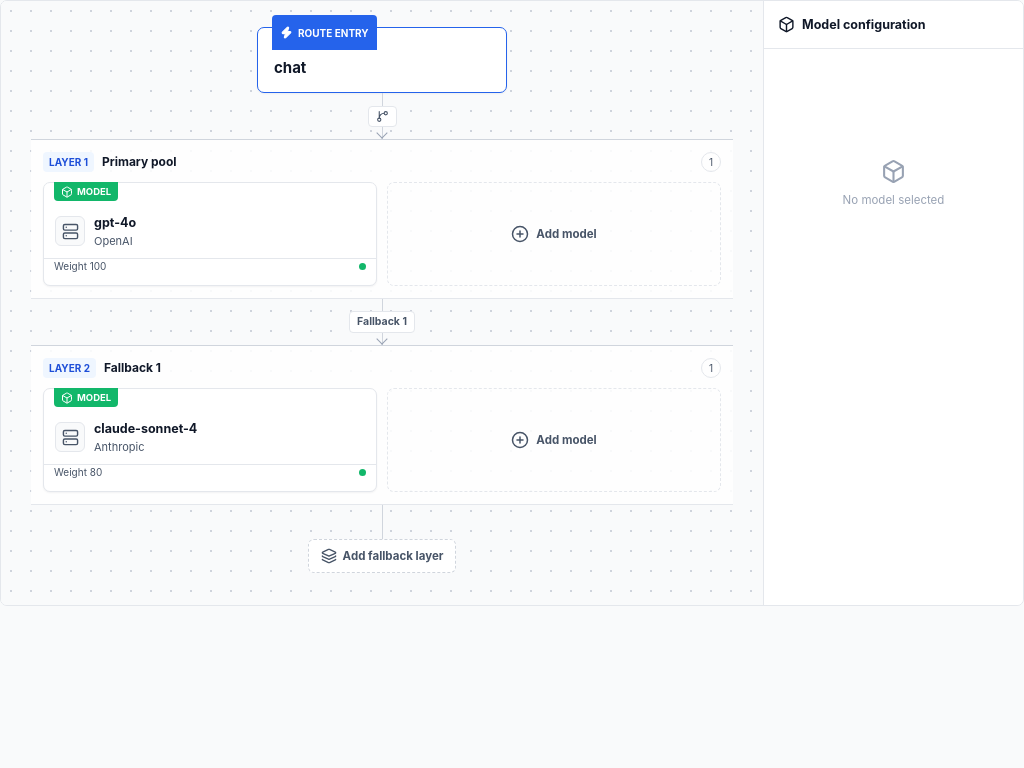
Test: ModelGroupMappingVisualizer › clears model and layer selections when the canvas background is clicked
Click the button "Model gpt-4o OpenAI Weight 100": {"x": 86, "y": 192} [43,182,377,286]
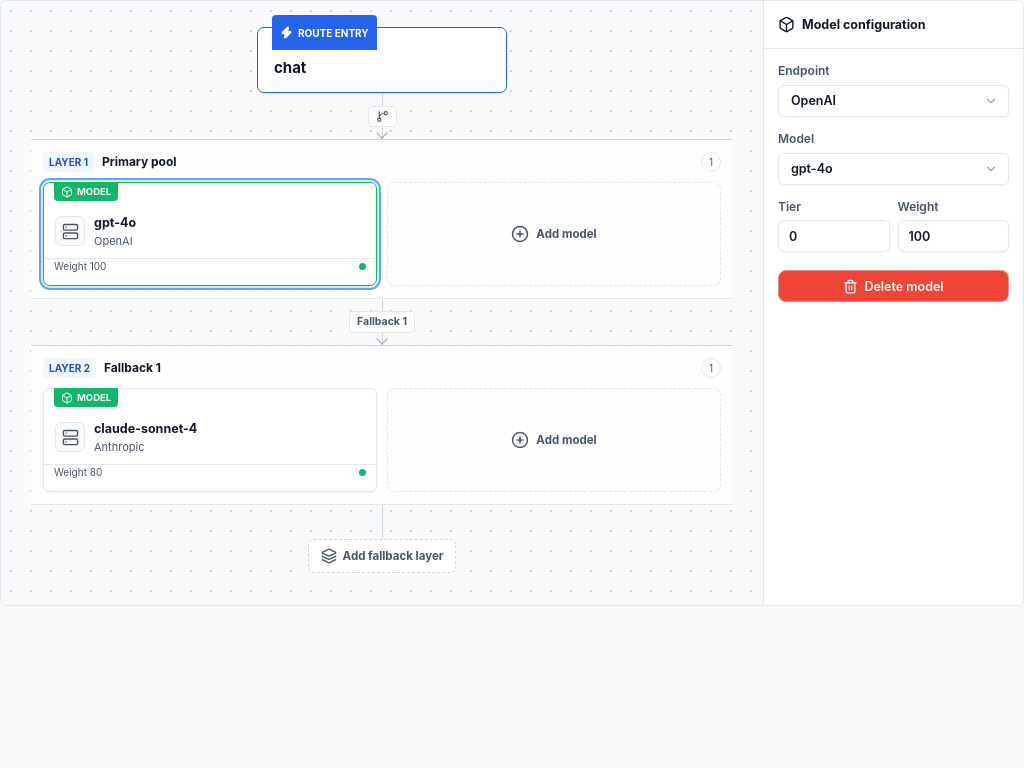
Result: the element "Model configuration" shows "OpenAI" at [778,85,1009,117]
Click the element with test id "mapping-canvas": {"x": 31, "y": 25} [1,1,763,605]
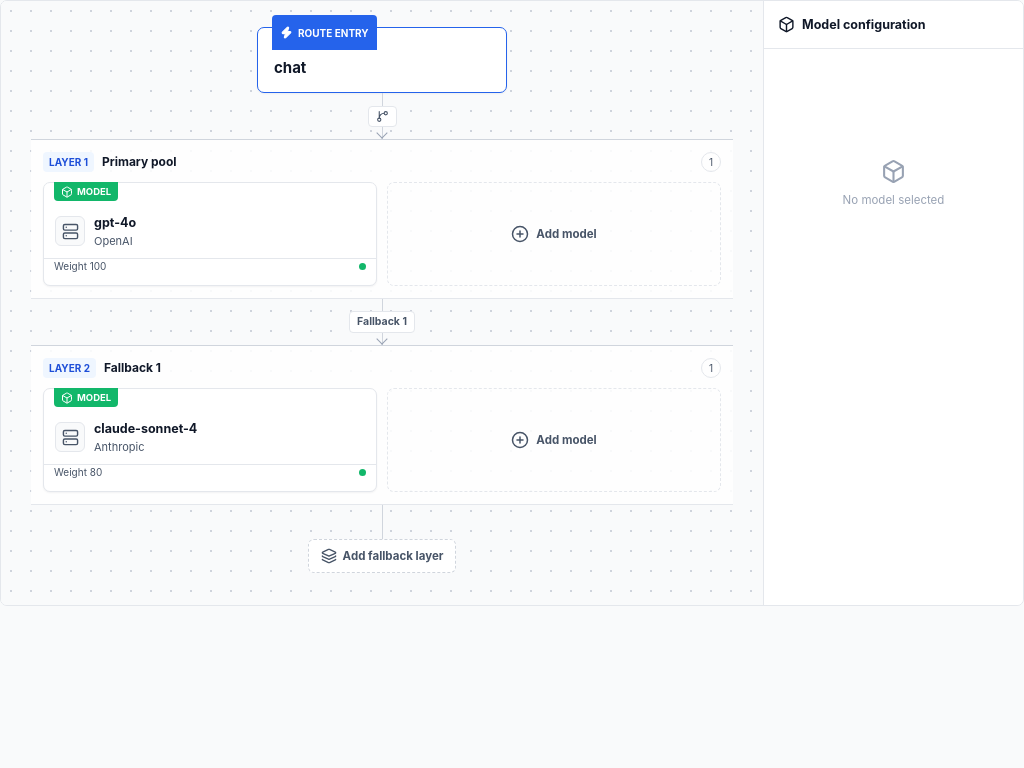
Result: the element "Model configuration" shows "No model selected" at [843,194,944,208]
Click the button named "Layer 1 Layer traffic distribution": {"x": 68, "y": 162} [43,152,721,172]
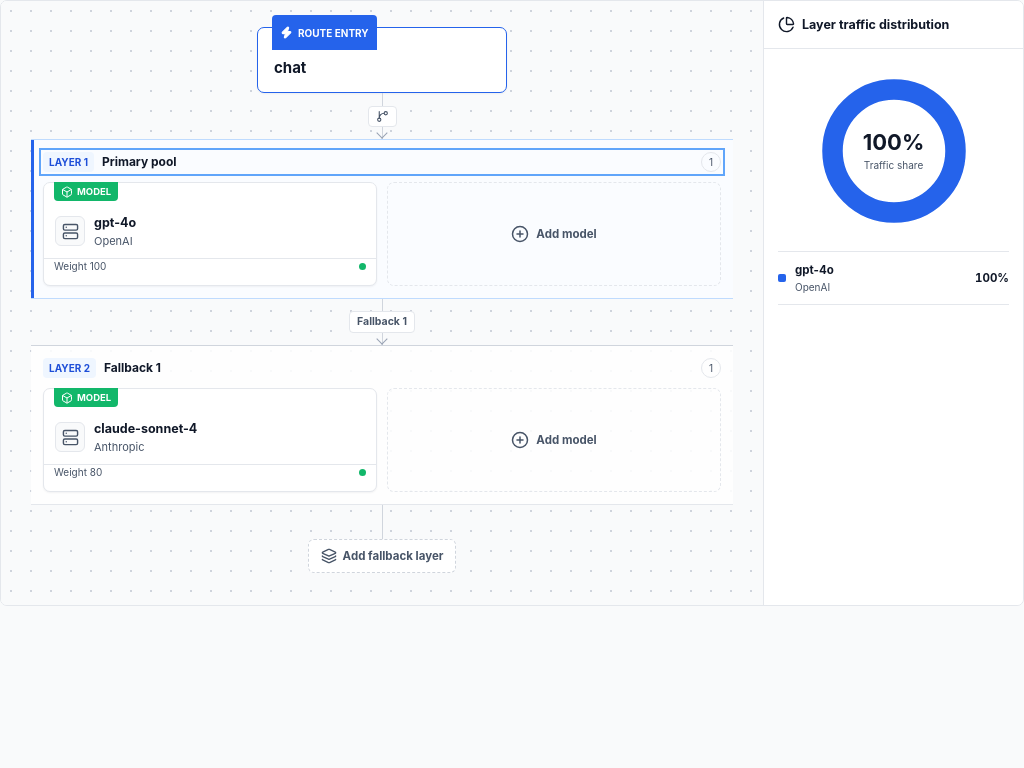
Result: the element "Layer traffic distribution" is shown at [763,1,1023,605]
Click the element with test id "mapping-canvas": {"x": 31, "y": 25} [1,1,763,605]
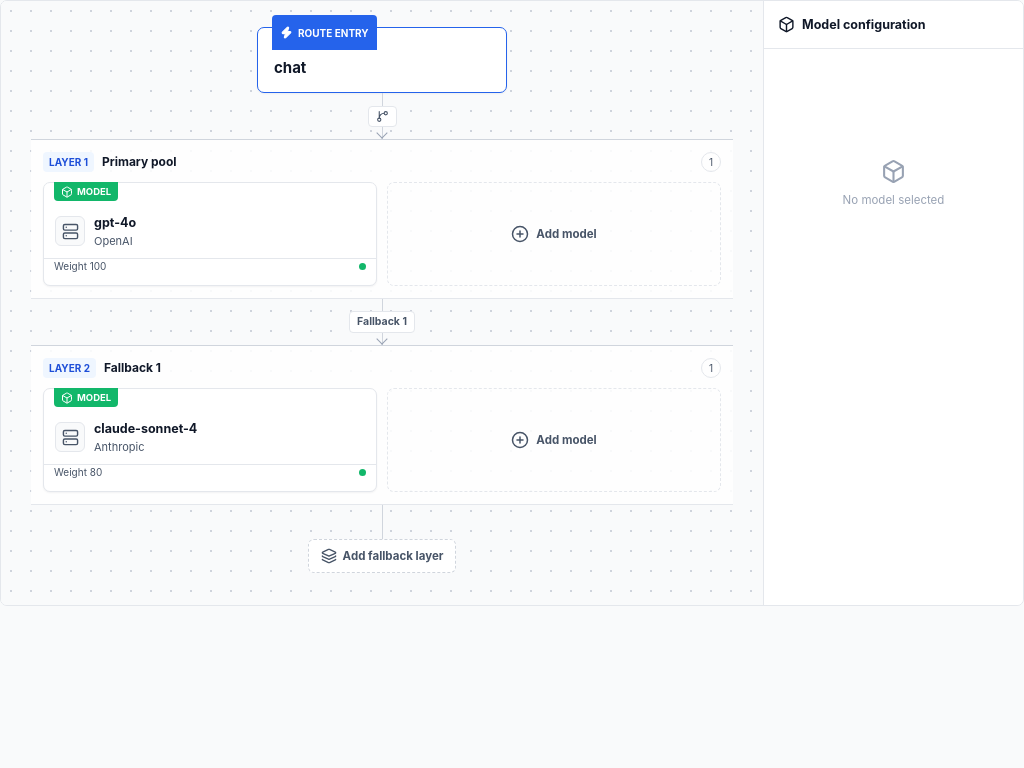
Result: the element "Model configuration" shows "No model selected" at [843,194,944,208]
